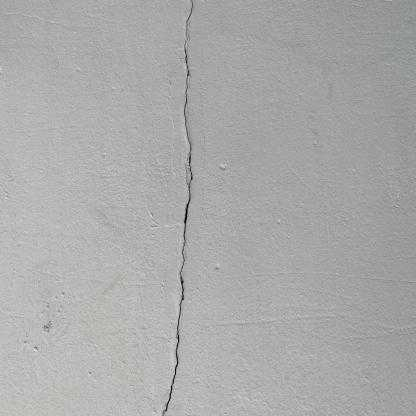crack: (160, 0, 194, 416)
